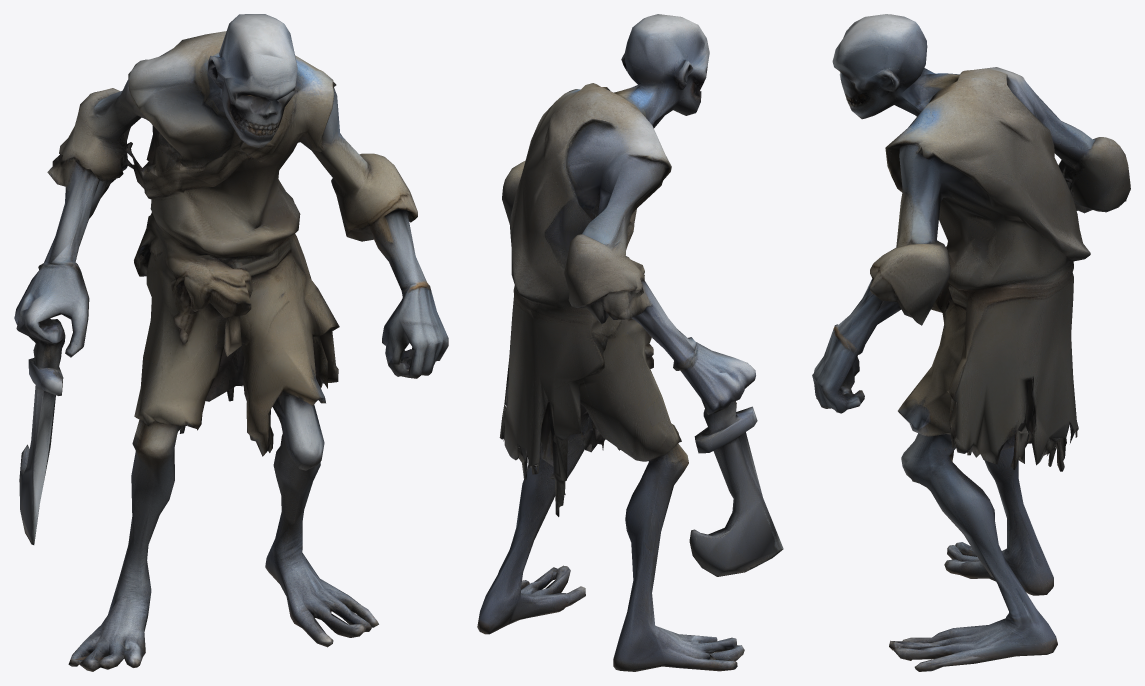
Rendered from zombie.glb.
3 views of the same model, side by side, from view 1: azimuth 30°, elevation 25°; view 2: azimuth 150°, elevation 25°; view 3: azimuth 270°, elevation 25° (orthographic). The views are drawn at different scales.
Bounding box in the file's own units: 1.09 × 2 × 0.9735.
Materials: 1 (1 with a texture image).
